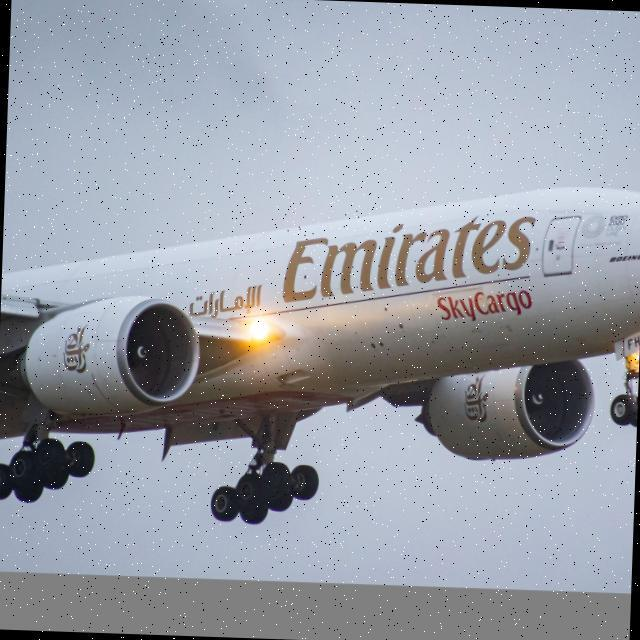Emirates: (281, 206, 536, 313)
